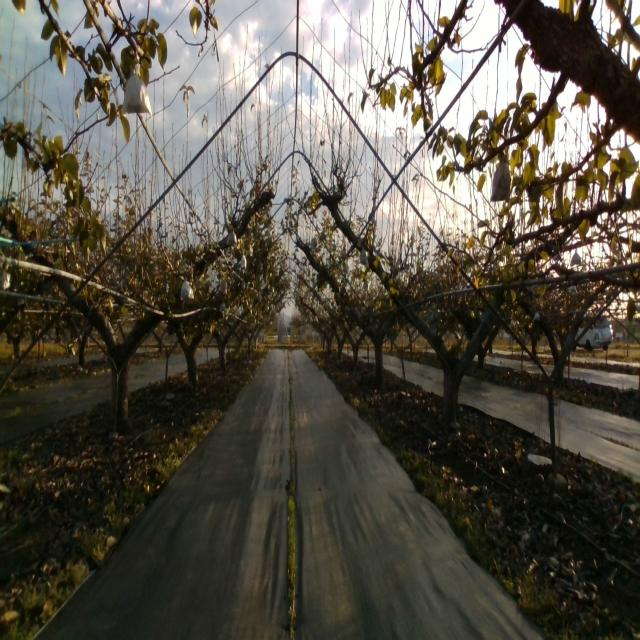pearbags: (120, 62, 152, 116), (491, 155, 512, 203), (180, 276, 193, 300), (358, 247, 369, 268), (225, 230, 237, 248)
